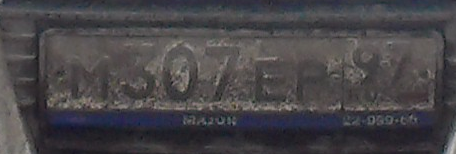character: (117, 41, 159, 102), (201, 43, 241, 106), (159, 42, 200, 103), (66, 54, 114, 103), (384, 37, 422, 95), (252, 55, 292, 109), (297, 55, 332, 108), (350, 38, 384, 90)
